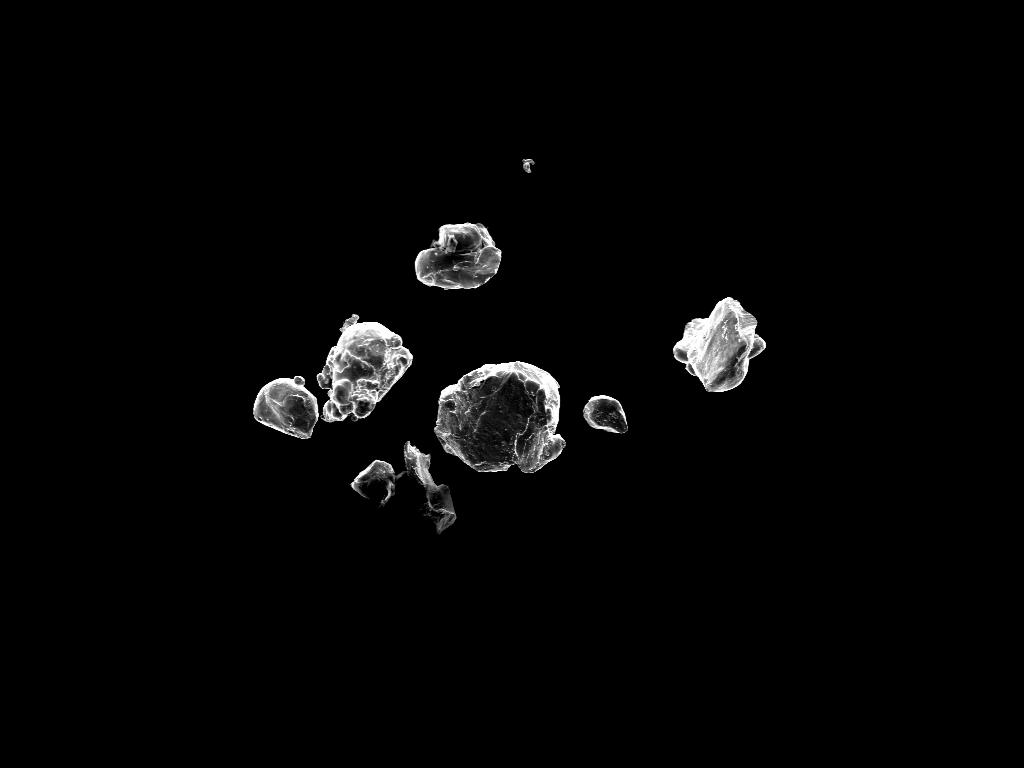Powder: (434, 362, 564, 472), (318, 318, 412, 421), (352, 442, 456, 532), (674, 298, 766, 392), (416, 222, 502, 289), (254, 376, 318, 438), (584, 396, 628, 433)
